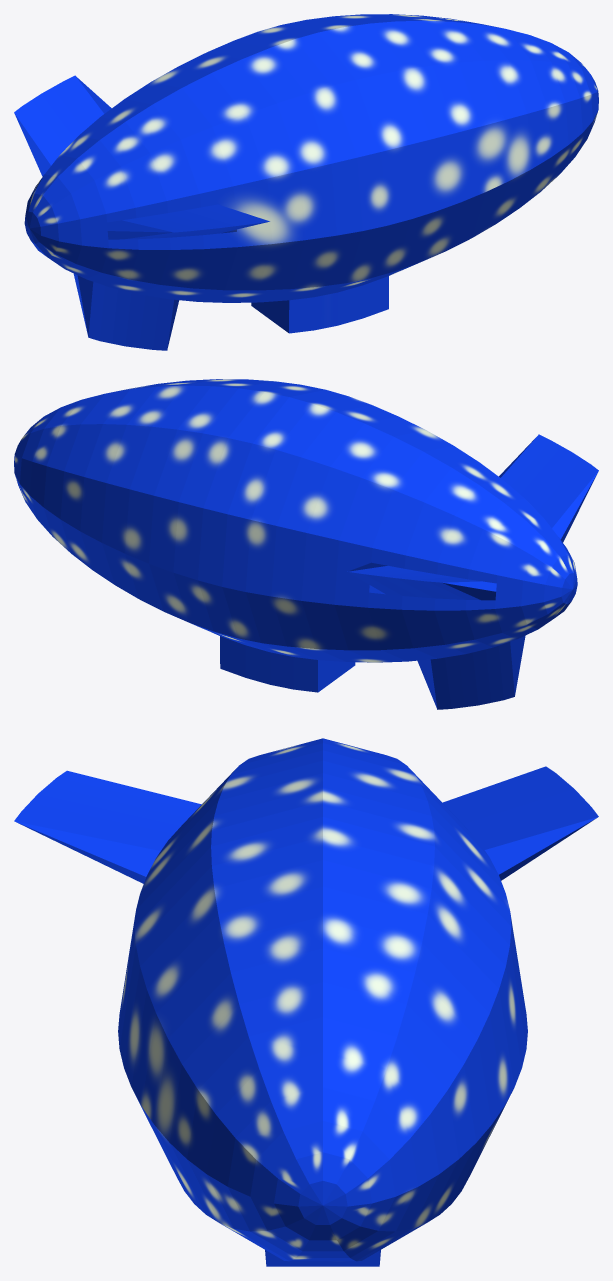
The model's file is blimp.glb.
3 renders of one model, top to bottom at view 1: azimuth 30°, elevation 25°; view 2: azimuth 150°, elevation 25°; view 3: azimuth 270°, elevation 25°, orthographic. The views are drawn at different scales.
Parts seen in each view (by area): view 1: Blimp; view 2: Blimp; view 3: Blimp.
Boxes of the visible parts, <box> form: Blimp: <box>14,14,598,350</box>; Blimp: <box>14,379,598,709</box>; Blimp: <box>14,738,598,1266</box>.
Bounding box in the file's own units: 6.92 × 3.3 × 4.15.
1 material, 1 textured.
